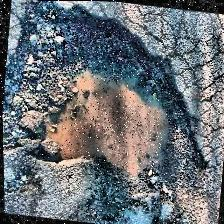pothole: (0, 0, 222, 205)
